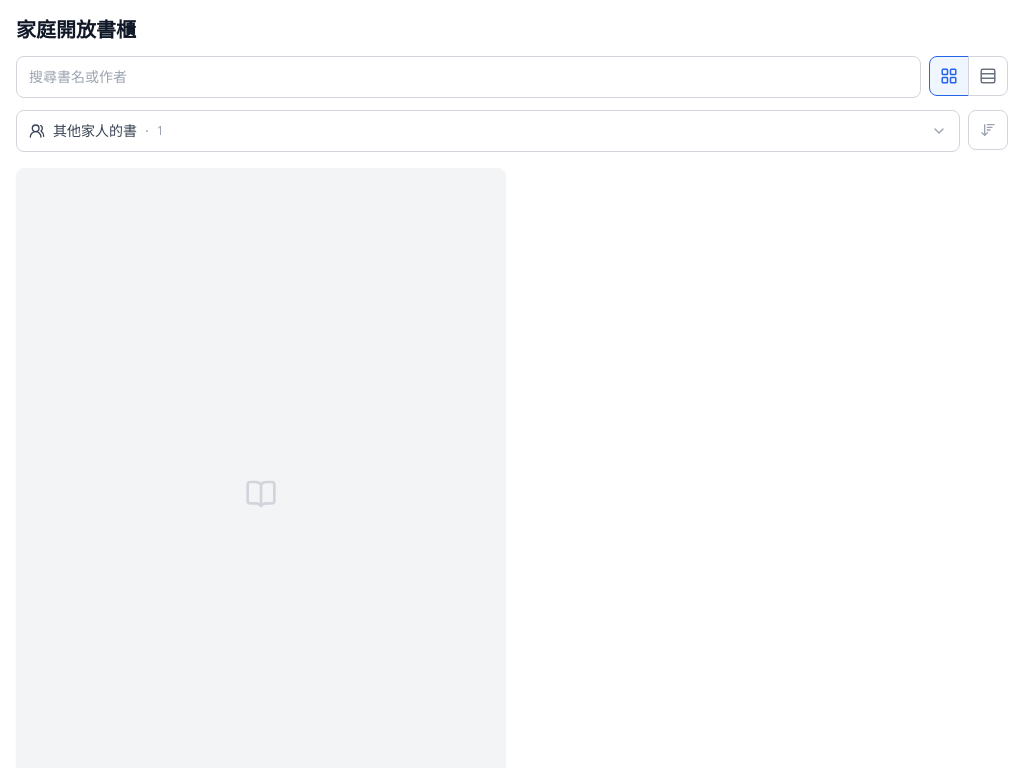
it: FamilyShelfPage — hide feature › can hide self's own book in the 所有人 view
Click the button with aria-label "篩選成員：": click(95, 130) [16, 110, 960, 152]
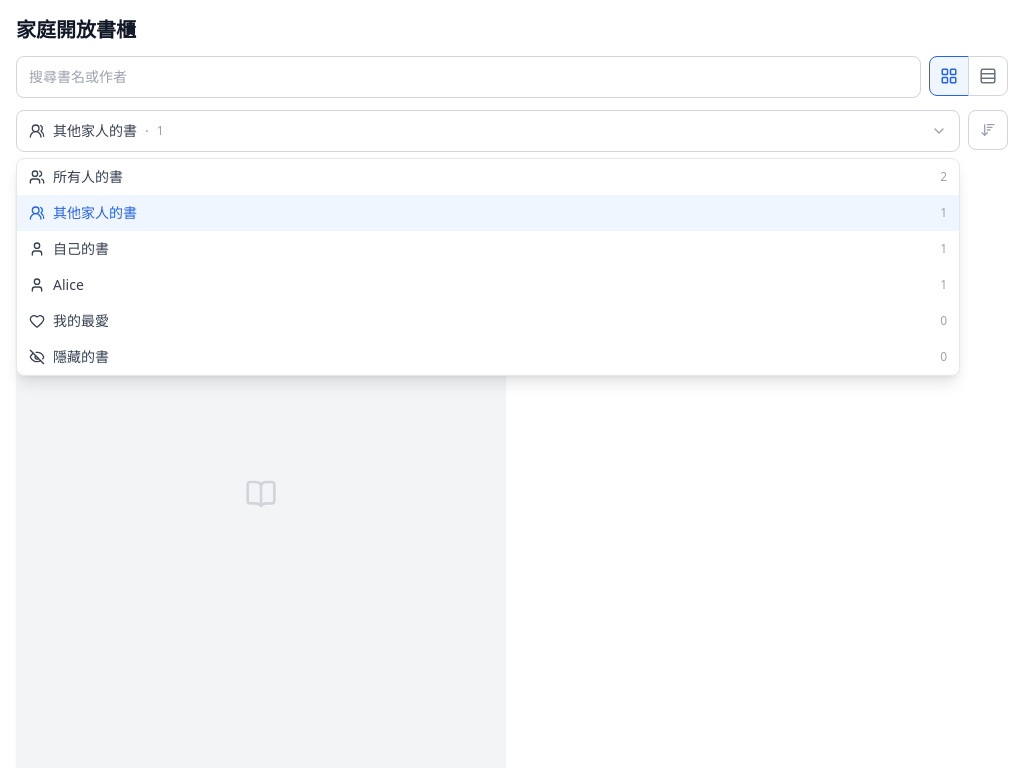
Click the option "所有人的書 2": click(88, 176) [17, 159, 959, 195]
(page scrolled)
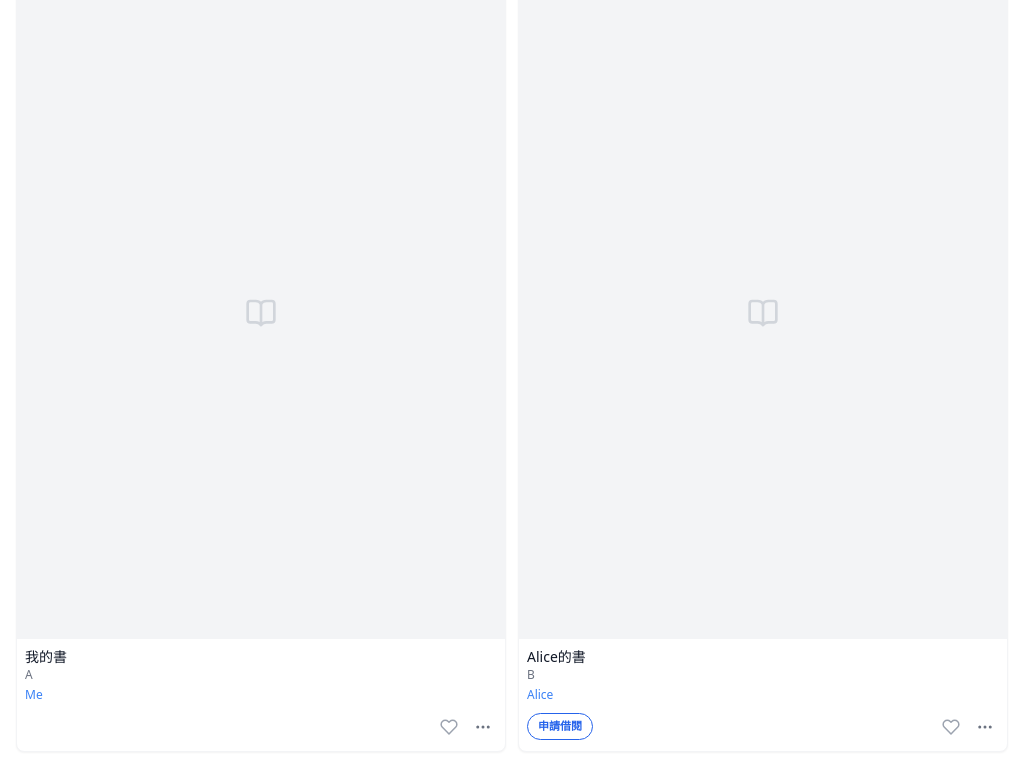
Result: the text "我的書" is shown at [25, 647, 67, 666]
Click the 1st button named "更多選項": click(483, 727) [469, 713, 497, 741]
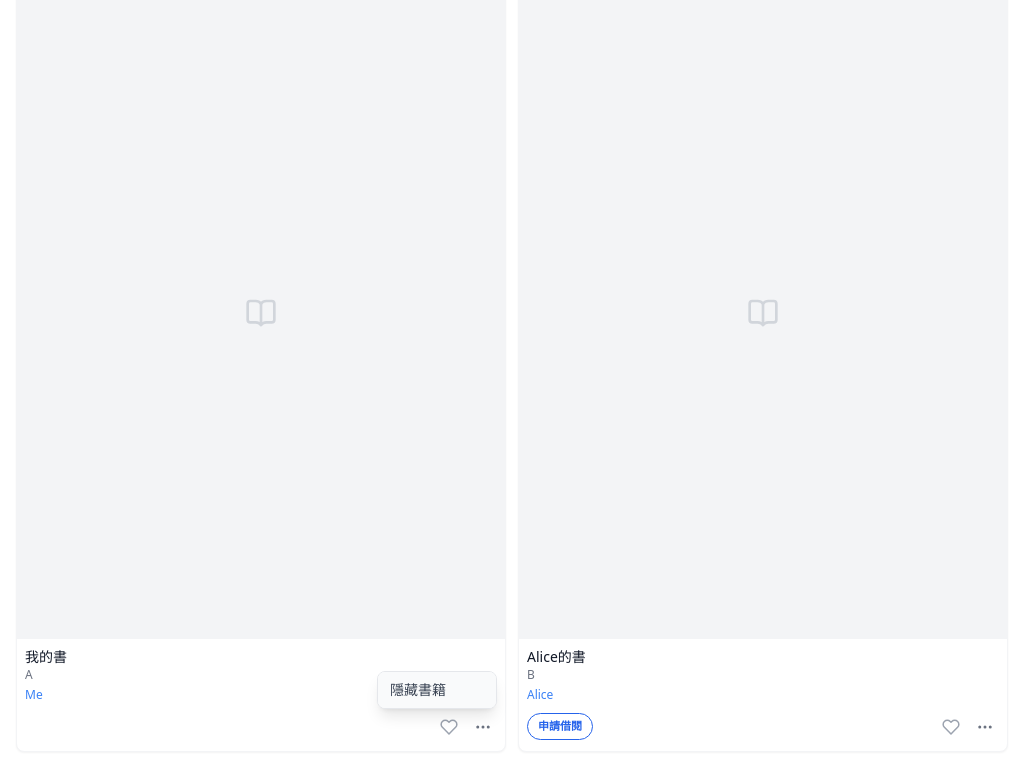
Click the menu item "隱藏書籍": click(437, 690) [378, 672, 496, 708]
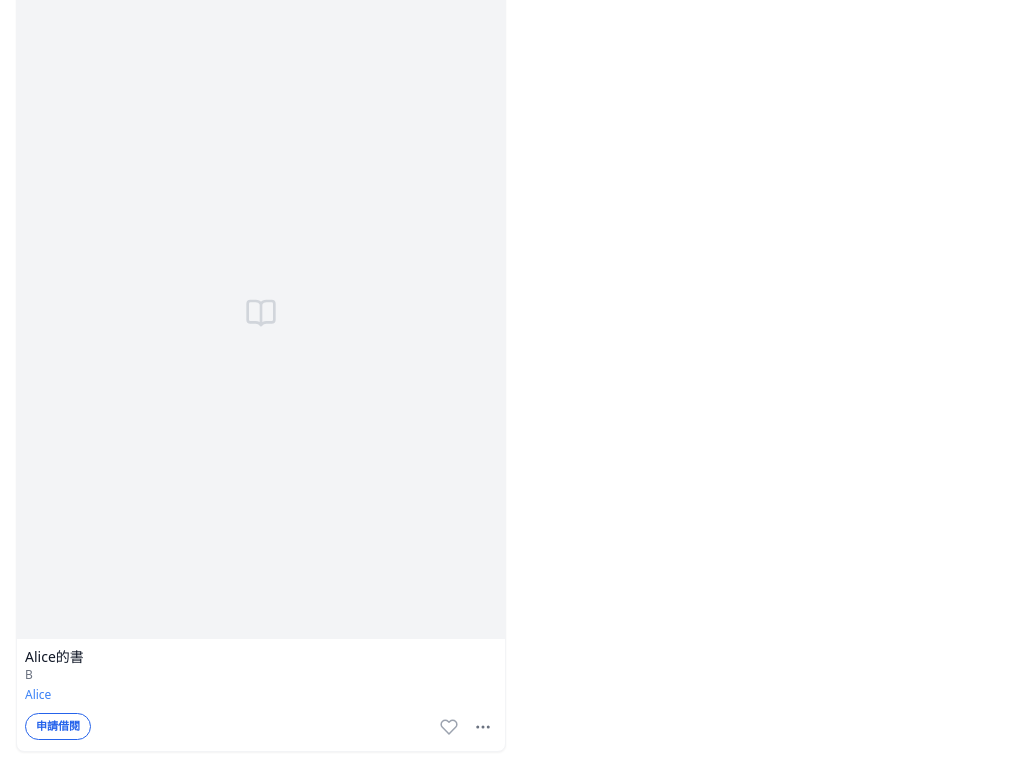
Expected: the text "Alice的書" is shown, [25, 647, 84, 666]
Result: the link "我的書" is gone
